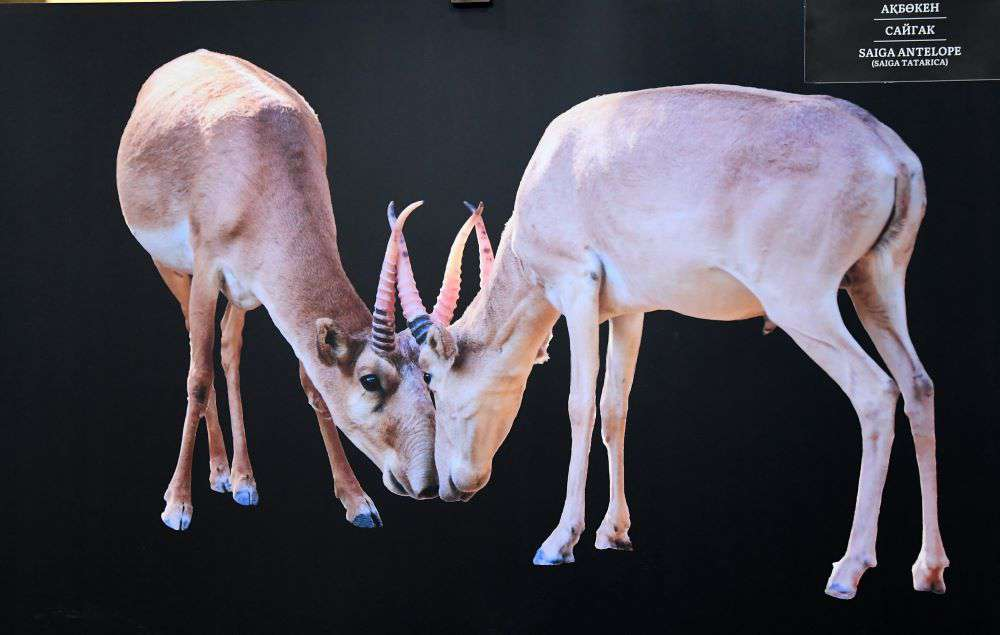saiga: (388, 79, 959, 596), (116, 45, 488, 543)
